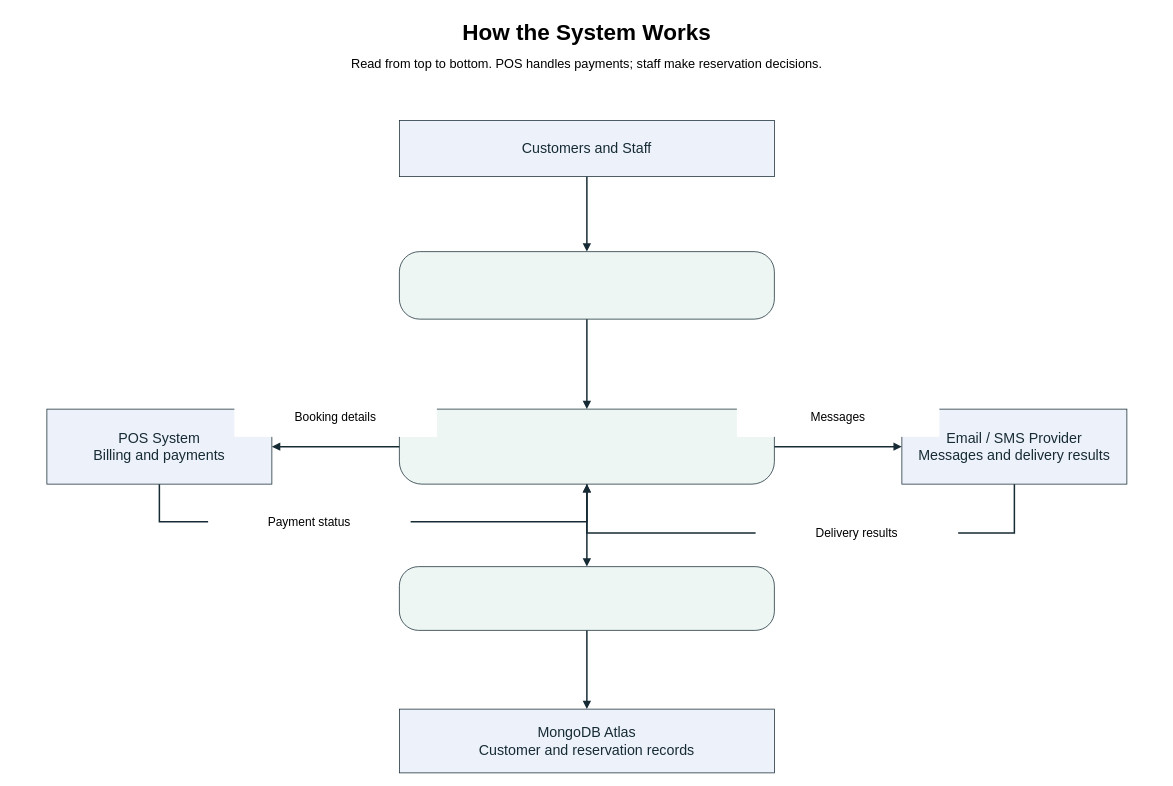
Image size: 1173x786. Some labels were removed from this diagram. The shapes that lost their labels are listed below. From the top down, each one's centre as x and y in pixels, then its label:
At (586,285): "Website View schedules and manage bookings".
At (586,446): "Reservation Services Check bays, review requests and record attendance".
At (586,598): "Data Access Save and retrieve records".
